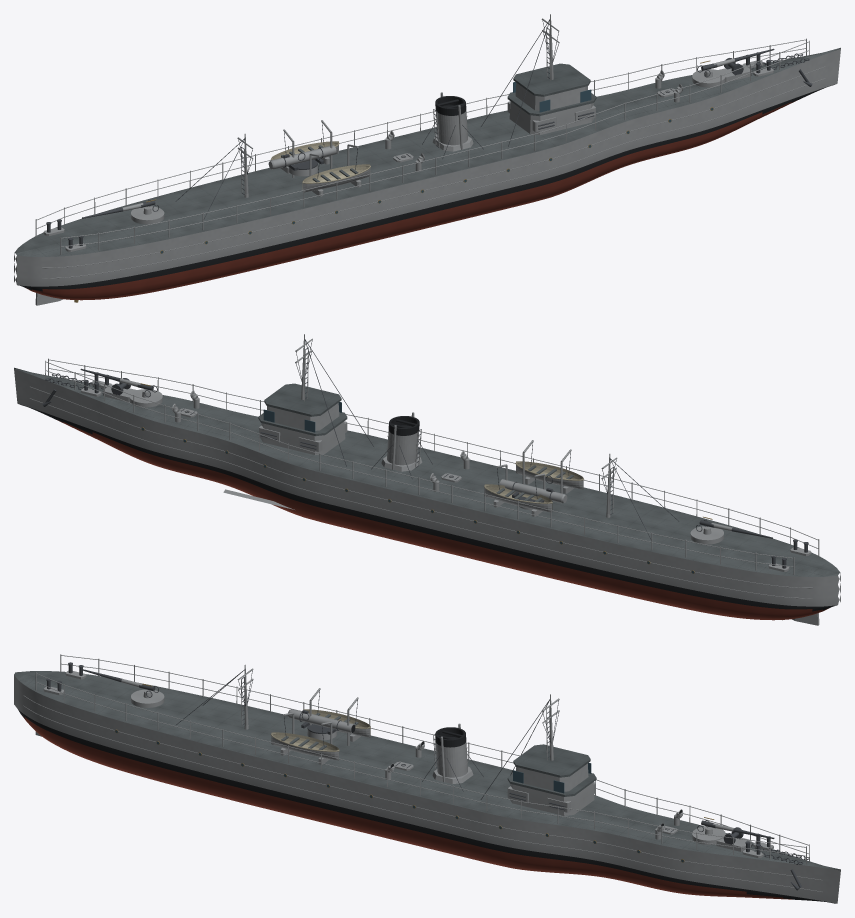
Rendered from a_boat_tb.glb.
3 views of the same model, one above another, from view 1: azimuth 30°, elevation 25°; view 2: azimuth 150°, elevation 25°; view 3: azimuth 330°, elevation 25° (orthographic).
Visible parts, largest first — view 1: A-boat class; view 2: A-boat class; view 3: A-boat class.
Boxes of the visible parts, x1=… form: A-boat class: x1=14, y1=14, x2=840, y2=305; A-boat class: x1=14, y1=334, x2=840, y2=625; A-boat class: x1=14, y1=654, x2=840, y2=903.
Bounding box in the file's own units: 50 × 9.71 × 5.41.
Materials: 9 (8 with a texture image).
